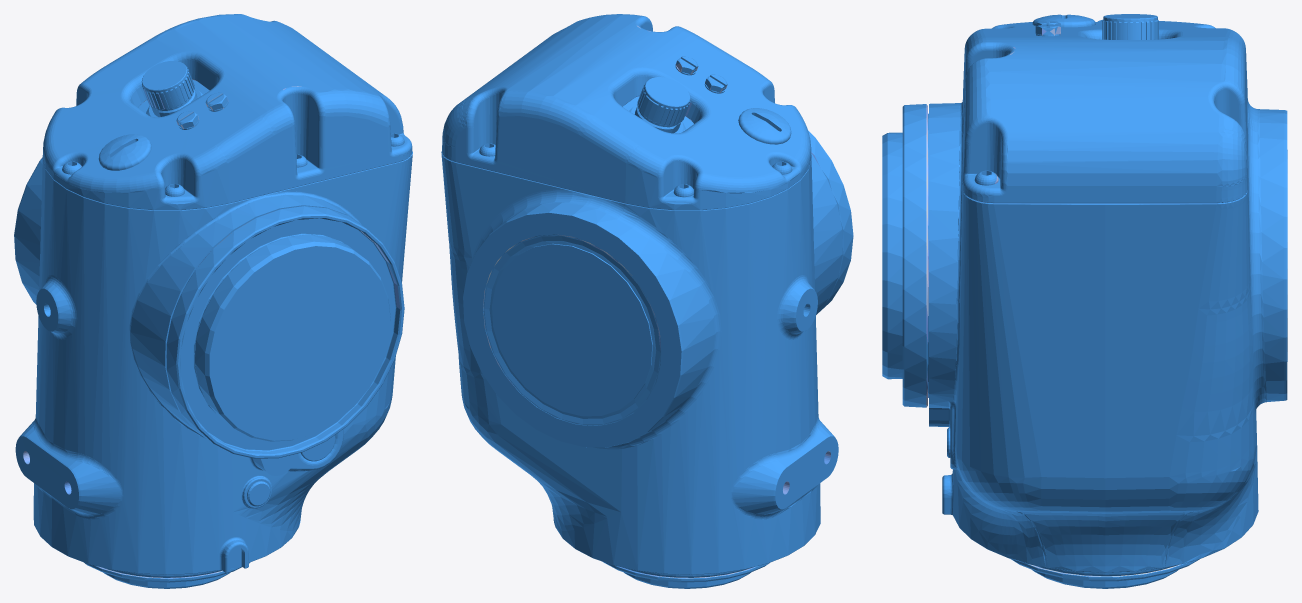
File: YaskawaGP4Link3.dae
3 views of the same model, side by side, from view 1: azimuth 30°, elevation 25°; view 2: azimuth 150°, elevation 25°; view 3: azimuth 270°, elevation 25° (orthographic). The views are drawn at different scales.
Visible parts, largest first — view 1: YaskawaGP4Link3; view 2: YaskawaGP4Link3; view 3: YaskawaGP4Link3.
Part boxes in pixels (x1=…): YaskawaGP4Link3: x1=14, y1=14, x2=412, y2=588; YaskawaGP4Link3: x1=441, y1=14, x2=853, y2=588; YaskawaGP4Link3: x1=882, y1=14, x2=1287, y2=588.
Size of the model in its own units: 0.1318 by 0.1282 by 0.194.
